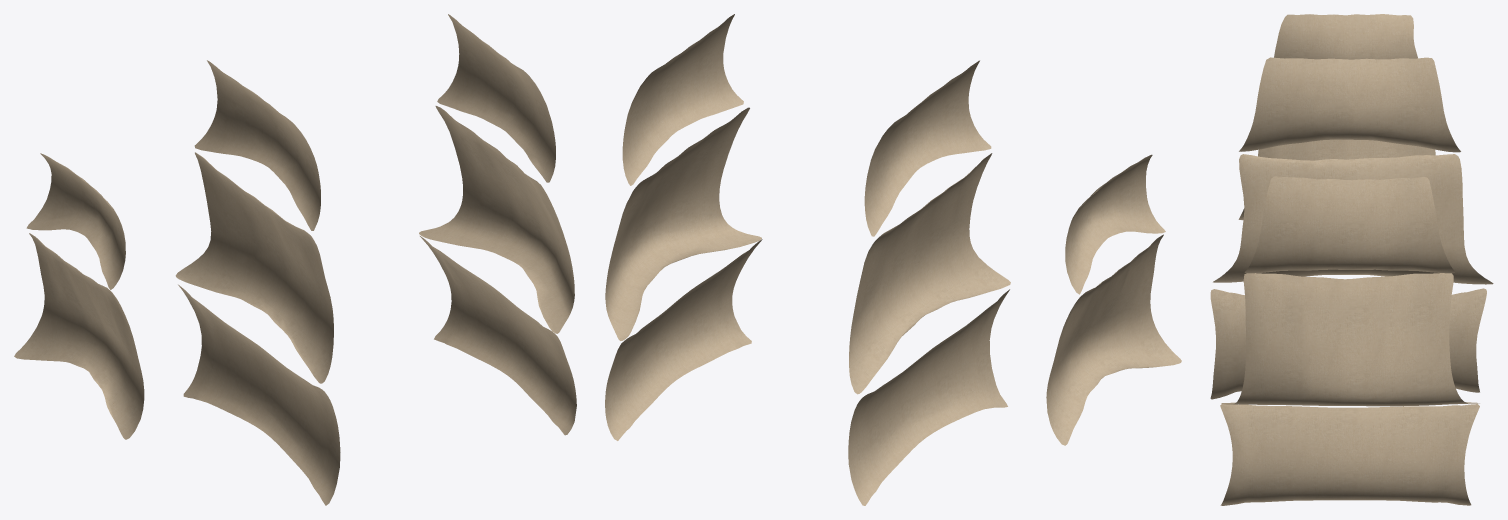
Rendered from Front Facing Sails1.fbx.
3 renders of one model, left to right at view 1: azimuth 30°, elevation 25°; view 2: azimuth 150°, elevation 25°; view 3: azimuth 270°, elevation 25°, orthographic. The views are drawn at different scales.
Visible parts, largest first — view 1: Front_Facing_Sails; view 2: Front_Facing_Sails; view 3: Front_Facing_Sails.
Part boxes in pixels (x1=…): Front_Facing_Sails: x1=14, y1=14, x2=576, y2=505; Front_Facing_Sails: x1=605, y1=14, x2=1181, y2=505; Front_Facing_Sails: x1=1210, y1=14, x2=1493, y2=505.
Size of the model in its own units: 526 by 385 by 289.
1 material, 1 textured.
